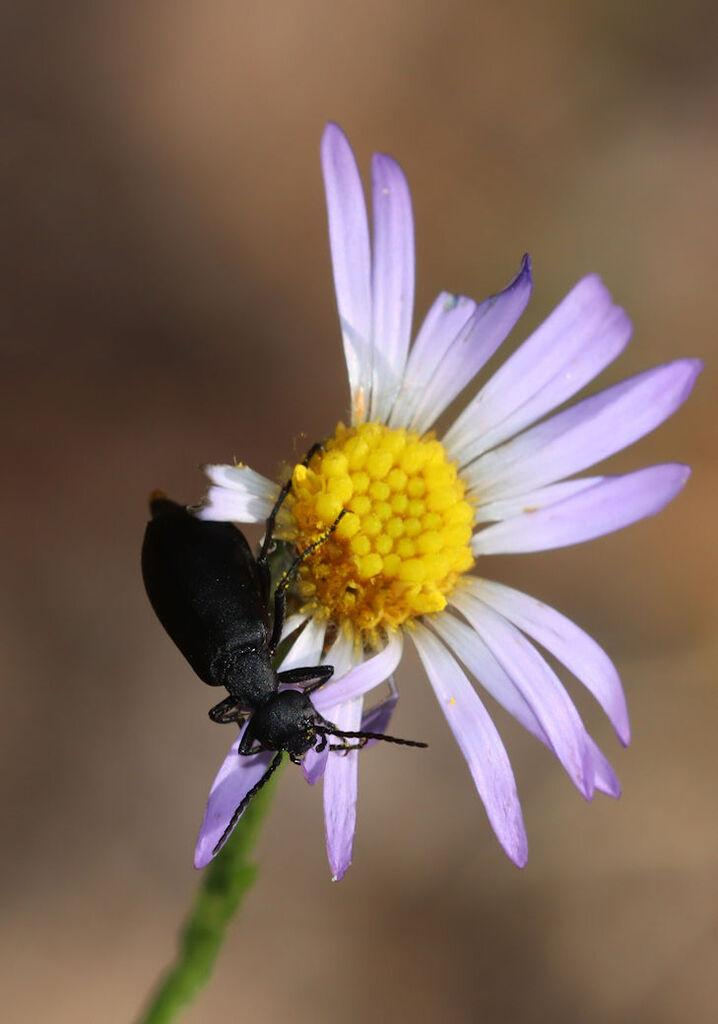blister_beetle: (82, 416, 468, 826)
